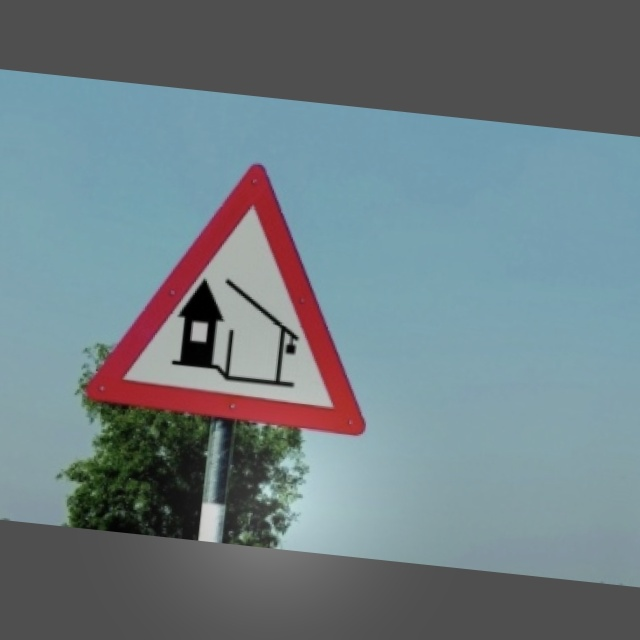Barrier_Ahead: (91, 146, 393, 440)
